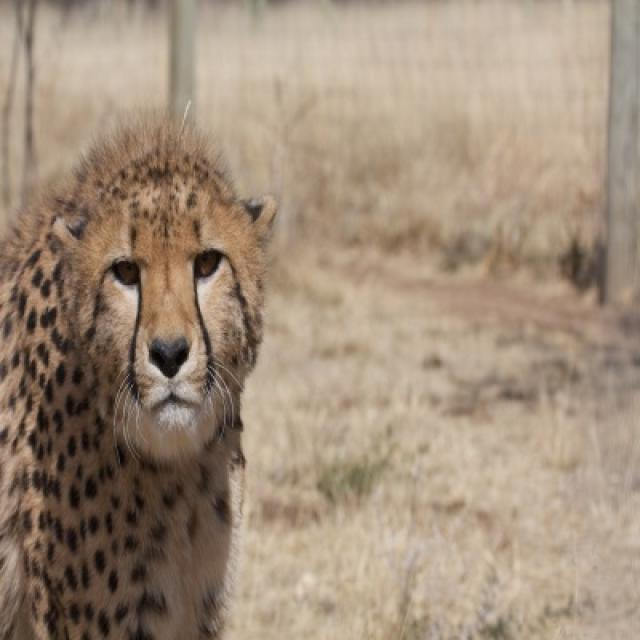Cheetah: (0, 112, 277, 636)
